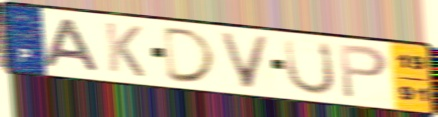A: (42, 16, 103, 74)
D: (162, 25, 221, 85)
K: (102, 20, 148, 80)
P: (336, 42, 391, 102)
U: (282, 36, 338, 97)
V: (216, 30, 274, 91)
